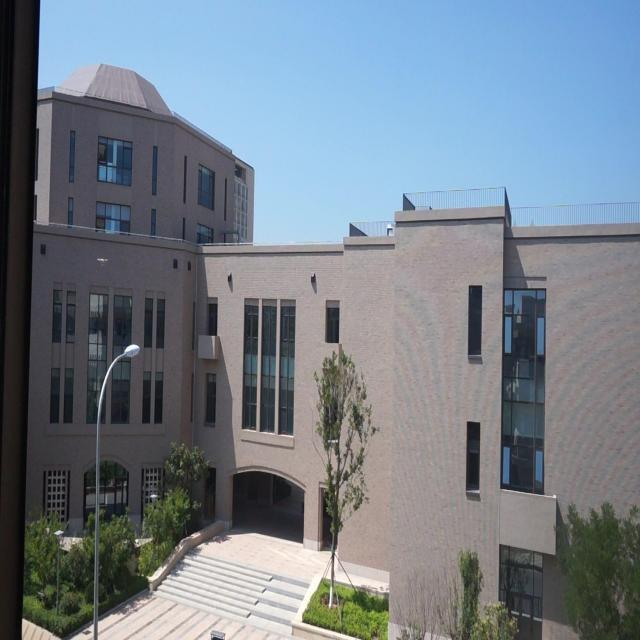UAV: (97, 258, 108, 265)
